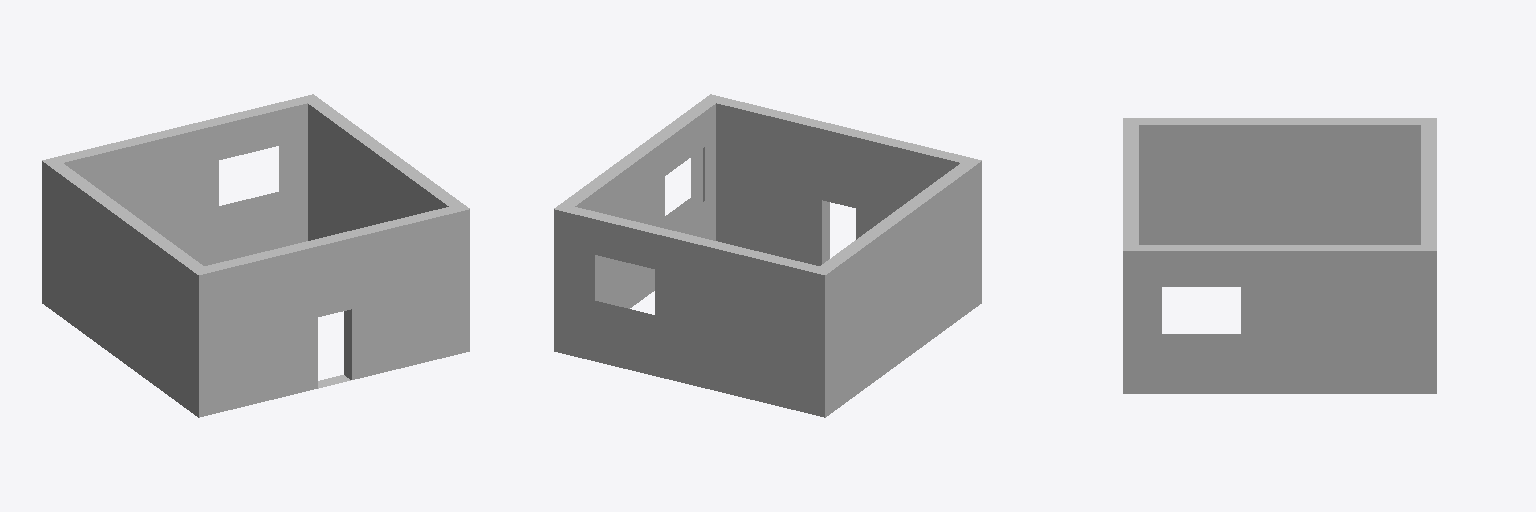
File: house.obj
3 views of the same model, side by side, from view 1: azimuth 30°, elevation 25°; view 2: azimuth 150°, elevation 25°; view 3: azimuth 270°, elevation 25° (orthographic).
Parts seen in each view (by area): view 1: WallDoor_Cube.012, WallSolid_Cube.013, WallWindow2_Cube.015, WallWindow1_Cube.014; view 2: WallWindow2_Cube.015, WallDoor_Cube.012, WallSolid_Cube.013, WallWindow1_Cube.014; view 3: WallWindow1_Cube.014, WallSolid_Cube.013, WallDoor_Cube.012, WallWindow2_Cube.015.
Part boxes in pixels (x1,y1,x2,y2): WallDoor_Cube.012: (192, 206, 469, 417); WallSolid_Cube.013: (42, 158, 211, 416); WallWindow2_Cube.015: (42, 94, 319, 307); WallWindow1_Cube.014: (302, 94, 469, 344); WallWindow2_Cube.015: (554, 204, 832, 415); WallDoor_Cube.012: (703, 95, 981, 306); WallSolid_Cube.013: (815, 157, 981, 417); WallWindow1_Cube.014: (554, 94, 722, 354); WallWindow1_Cube.014: (1123, 245, 1436, 393); WallSolid_Cube.013: (1123, 118, 1431, 244); WallDoor_Cube.012: (1123, 118, 1138, 393); WallWindow2_Cube.015: (1421, 118, 1436, 393).
Size of the model in its own units: 20 by 10 by 20.